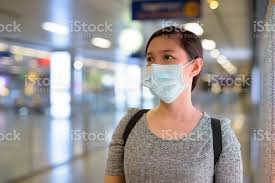with-mask: (141, 26, 207, 110)
